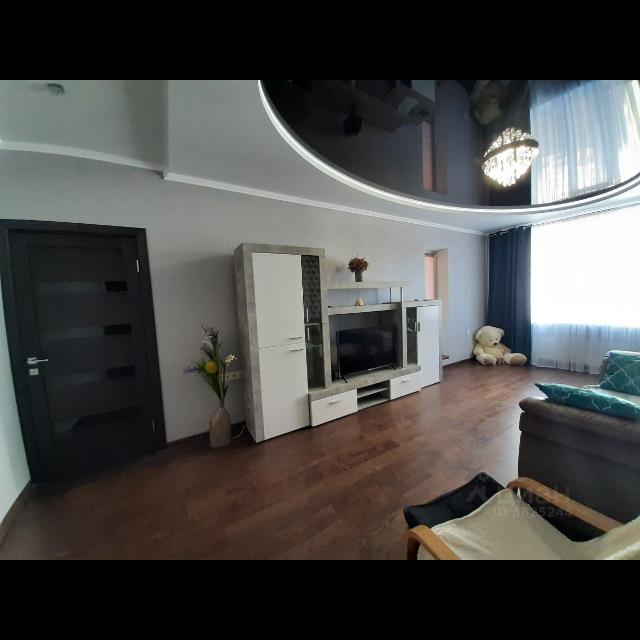Flat-Panel-TV: (336, 325, 399, 381)
